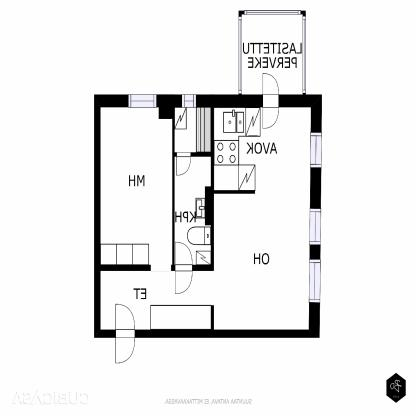door: (114, 303, 137, 368), (174, 241, 194, 296), (263, 72, 280, 130), (176, 152, 191, 177)
window: (309, 259, 321, 303), (310, 132, 321, 168), (309, 208, 320, 244), (128, 94, 156, 106), (182, 93, 195, 107)
zone: (101, 107, 310, 330), (241, 12, 302, 93), (174, 156, 210, 265), (174, 105, 211, 153)
